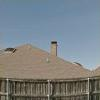Chimney: (46, 33, 70, 61)
